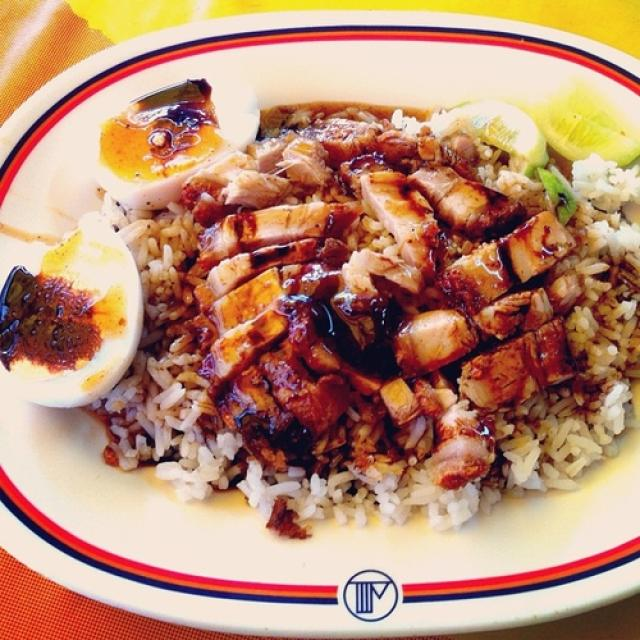猪肉菜式: (18, 60, 612, 576)
